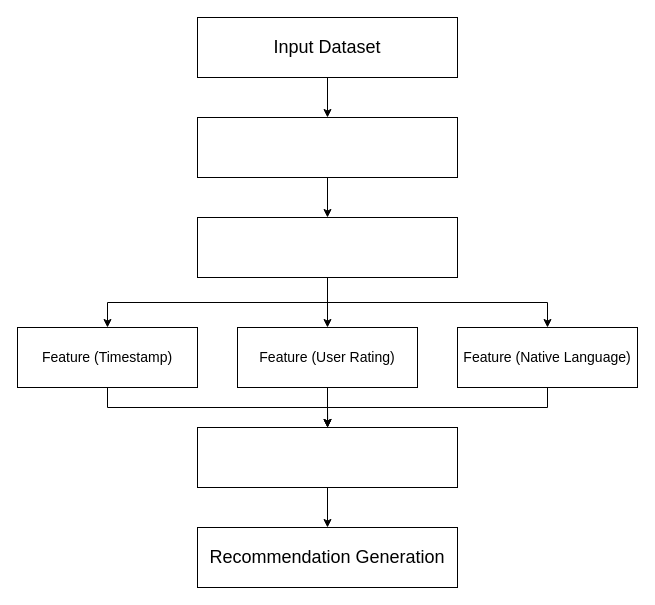
Some shapes in this 655 by 605 pixel diagram are drawn without their labels. The centre of each missing label's shape, as x and y in pixels:
"Cluster Analysis" goes at pixel 327 457.
"Feature Extraction" goes at pixel 327 247.
"Identify User/Item" goes at pixel 327 147.
